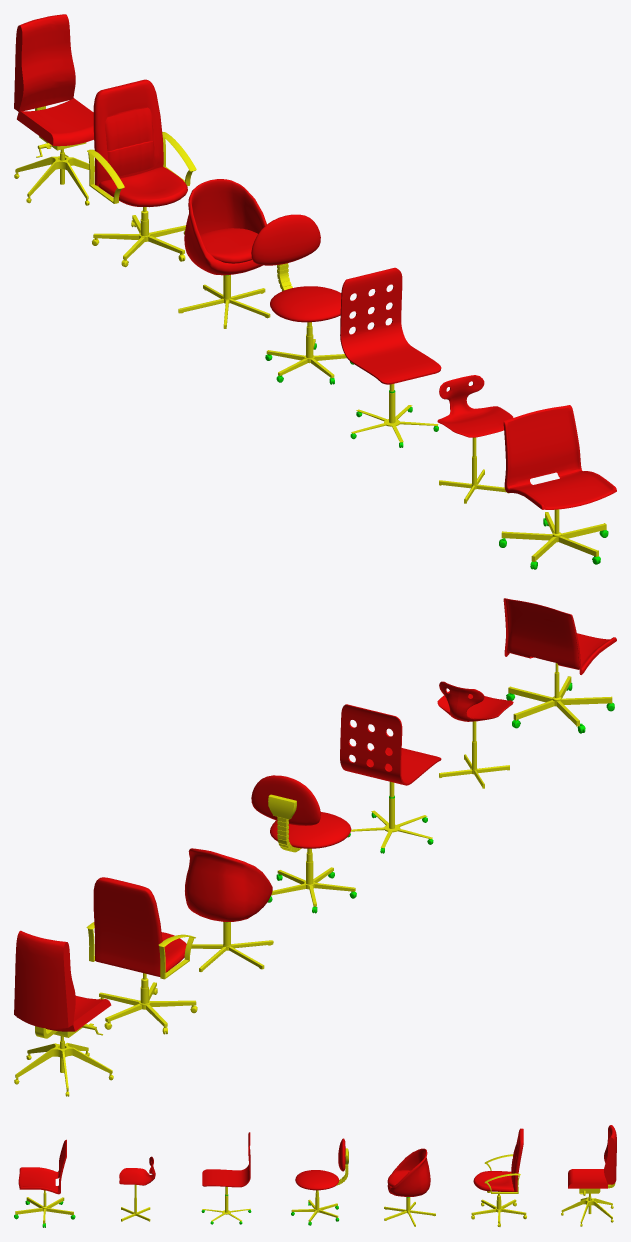
Rendered from thorkea_office_chairs_grp.fbx.
3 renders of one model, top to bottom at view 1: azimuth 30°, elevation 25°; view 2: azimuth 150°, elevation 25°; view 3: azimuth 270°, elevation 25°, orthographic. The views are drawn at different scales.
Parts seen in each view (by area): view 1: thorkea_office_chair_allak, thorkea_office_chair_snille, thorkea_office_chair_volmar, thorkea_office_chair_jules, thorkea_office_chair_skruvsta, thorkea_office_chair_sevnning, thorkea_office_chair_molte; view 2: thorkea_office_chair_allak, thorkea_office_chair_volmar, thorkea_office_chair_snille, thorkea_office_chair_sevnning, thorkea_office_chair_skruvsta, thorkea_office_chair_jules, thorkea_office_chair_molte; view 3: thorkea_office_chair_volmar, thorkea_office_chair_skruvsta, thorkea_office_chair_allak, thorkea_office_chair_snille, thorkea_office_chair_sevnning, thorkea_office_chair_jules, thorkea_office_chair_molte.
Part boxes in pixels (x1,y1,x2,y2): thorkea_office_chair_allak: (87, 79, 196, 267); thorkea_office_chair_snille: (499, 405, 616, 569); thorkea_office_chair_volmar: (14, 14, 94, 205); thorkea_office_chair_jules: (340, 267, 441, 447); thorkea_office_chair_skruvsta: (178, 179, 270, 328); thorkea_office_chair_sevnning: (251, 214, 353, 384); thorkea_office_chair_molte: (437, 375, 513, 503); thorkea_office_chair_allak: (86, 877, 197, 1034); thorkea_office_chair_volmar: (14, 930, 113, 1096); thorkea_office_chair_snille: (503, 598, 616, 733); thorkea_office_chair_sevnning: (251, 775, 356, 913); thorkea_office_chair_skruvsta: (185, 848, 273, 971); thorkea_office_chair_jules: (340, 704, 441, 853); thorkea_office_chair_molte: (437, 681, 513, 788); thorkea_office_chair_volmar: (561, 1125, 616, 1226); thorkea_office_chair_skruvsta: (384, 1148, 435, 1226); thorkea_office_chair_allak: (471, 1128, 526, 1226); thorkea_office_chair_snille: (14, 1139, 75, 1227); thorkea_office_chair_sevnning: (291, 1138, 348, 1225); thorkea_office_chair_jules: (201, 1132, 251, 1224); thorkea_office_chair_molte: (119, 1156, 155, 1221).
Bounding box in the file's own units: 65.61 × 103 × 664.
